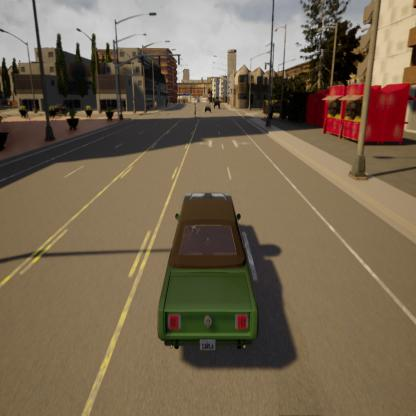Cars: (156, 169, 258, 392), (204, 100, 214, 121), (213, 96, 222, 112)
Pedestrian: (193, 99, 199, 125)
